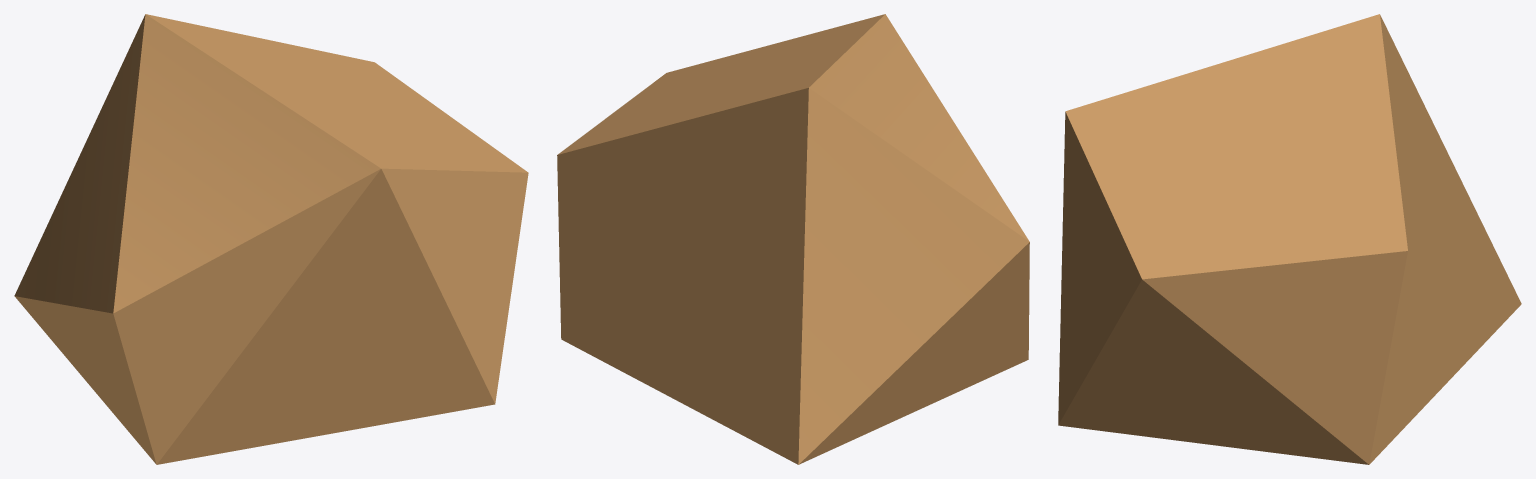
Rendered from decoration_stone_11.glb.
3 renders of one model, left to right at view 1: azimuth 30°, elevation 25°; view 2: azimuth 150°, elevation 25°; view 3: azimuth 270°, elevation 25°, orthographic. The views are drawn at different scales.
Parts seen in each view (by area): view 1: Plane.073; view 2: Plane.073; view 3: Plane.073.
Part boxes in pixels (<box>): Plane.073: <box>14,14,528,464</box>; Plane.073: <box>557,14,1029,464</box>; Plane.073: <box>1058,14,1521,464</box>.
Bounding box in the file's own units: 14.3 × 11.76 × 14.58.
1 material, 1 textured.
